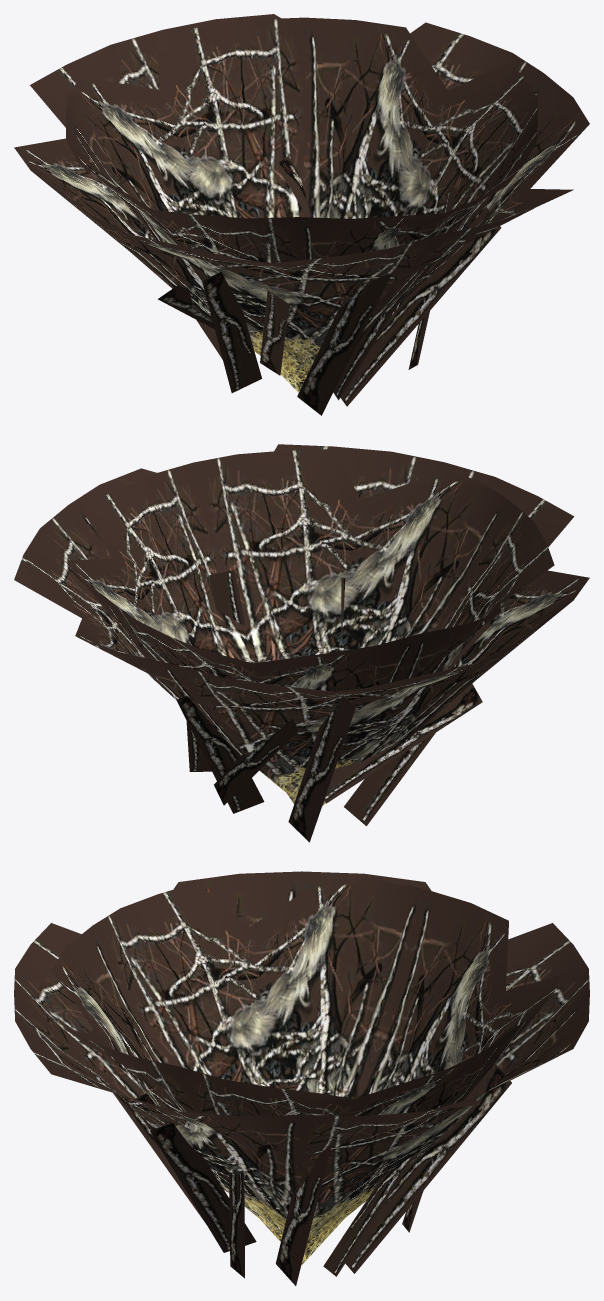
Rendered from poi_all_lair_nest_small_l0.fbx.
The picture shows the model from 3 angles, top to bottom: view 1: azimuth 30°, elevation 25°; view 2: azimuth 150°, elevation 25°; view 3: azimuth 270°, elevation 25°; orthographic projection. The views are drawn at different scales.
Visible parts, largest first — view 1: mesh_node; view 2: mesh_node; view 3: mesh_node.
Boxes of the visible parts, <box> form: mesh_node: <box>14,14,589,415</box>; mesh_node: <box>14,444,589,842</box>; mesh_node: <box>14,871,589,1285</box>.
Bounding box in the file's own units: 2.82 × 1.55 × 2.82.
